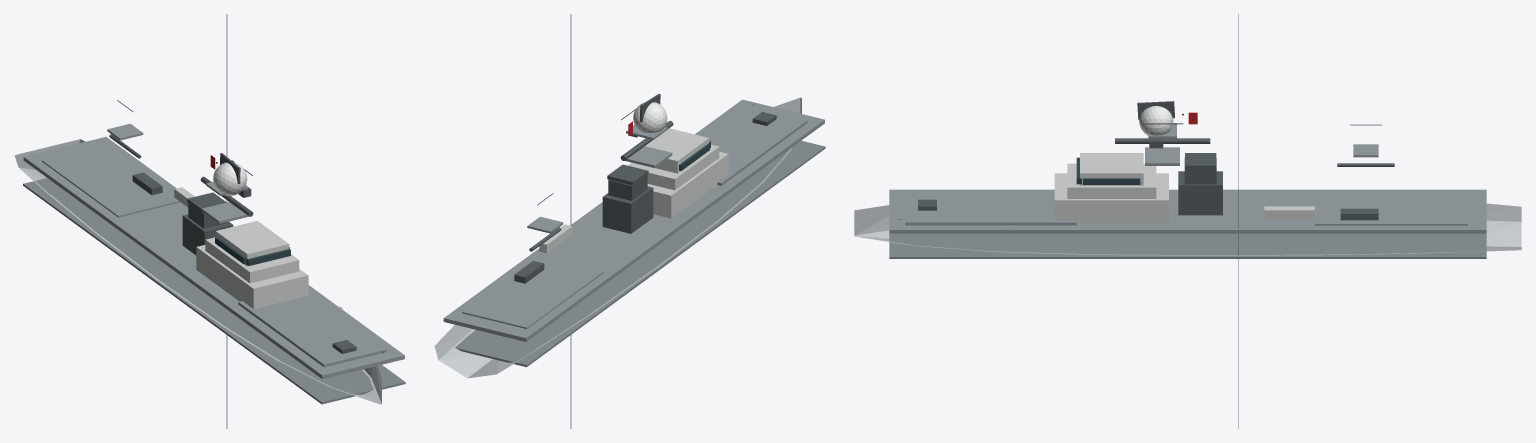
The model's file is PV26_Warship_Detailed.glb.
The picture shows the model from 3 angles, left to right: view 1: azimuth 30°, elevation 25°; view 2: azimuth 150°, elevation 25°; view 3: azimuth 270°, elevation 25°; orthographic projection.
Visible parts, largest first — view 1: Main deck, Waterline stripe, Forecastle deck, Aft working deck, Bridge lower, Hull, Bridge upper, Bridge shoulder, Funnel base, Main radome, Mast lower platform, Rail (+4 smaller); view 2: Main deck, Waterline stripe, Aft working deck, Forecastle deck, Hull, Bridge lower, Funnel base, Bridge upper, Bridge shoulder, Main radome, Funnel upper, Mast lower platform (+5 smaller); view 3: Waterline stripe, Main deck, Forecastle deck, Aft working deck, Hull, Bridge lower, Bridge upper, Bridge shoulder, Funnel base, Main radome, Side equipment cover, Mast lower platform.
Part boxes in pixels (<box>): Main deck: <box>23,137,404,379</box>; Waterline stripe: <box>23,178,405,404</box>; Forecastle deck: <box>238,292,387,367</box>; Aft working deck: <box>42,144,180,217</box>; Bridge lower: <box>196,245,308,308</box>; Hull: <box>14,139,381,404</box>; Bridge upper: <box>215,221,289,266</box>; Bridge shoulder: <box>205,237,299,283</box>; Funnel base: <box>182,214,233,255</box>; Main radome: <box>213,162,247,195</box>; Mast lower platform: <box>201,202,248,223</box>; Rail: <box>226,14,227,428</box>; Main deck: <box>443,99,824,341</box>; Waterline stripe: <box>455,140,825,367</box>; Aft working deck: <box>462,256,603,328</box>; Forecastle deck: <box>702,105,807,185</box>; Hull: <box>434,97,801,378</box>; Bridge lower: <box>647,151,728,218</box>; Funnel base: <box>602,186,653,233</box>; Bridge upper: <box>645,128,709,173</box>; Bridge shoulder: <box>628,144,719,190</box>; Main radome: <box>633,102,667,132</box>; Funnel upper: <box>608,175,647,200</box>; Mast lower platform: <box>625,146,672,167</box>; Waterline stripe: <box>889,233,1486,258</box>; Main deck: <box>889,189,1486,233</box>; Forecastle deck: <box>905,191,1076,225</box>; Aft working deck: <box>1315,192,1467,225</box>; Hull: <box>854,203,1521,255</box>; Bridge lower: <box>1054,173,1168,222</box>; Bridge upper: <box>1080,153,1143,185</box>; Bridge shoulder: <box>1067,163,1156,198</box>; Funnel base: <box>1178,171,1222,215</box>; Main radome: <box>1139,106,1173,135</box>; Side equipment cover: <box>1264,206,1314,218</box>; Mast lower platform: <box>1145,147,1179,165</box>.
Bounding box in the file's own units: 16.8 × 72 × 105.
